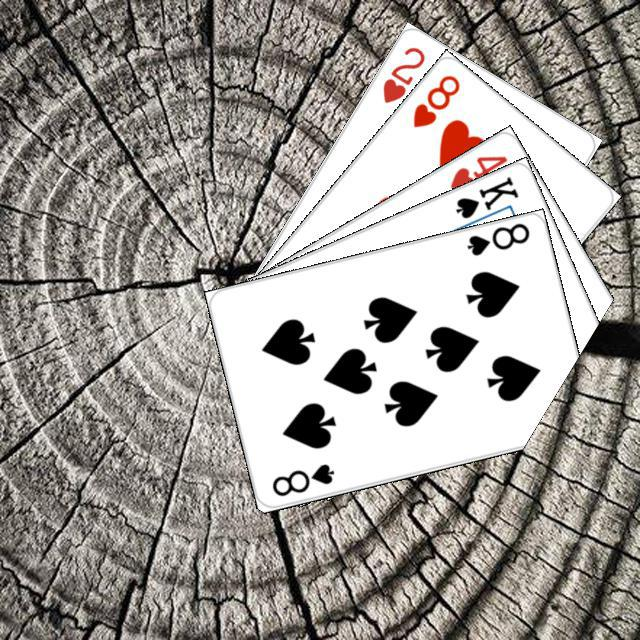2h: (377, 41, 427, 105)
4h: (445, 150, 509, 192)
8h: (407, 70, 462, 130)
8s: (462, 218, 532, 258), (267, 458, 337, 498)
Ks: (450, 171, 521, 221)
